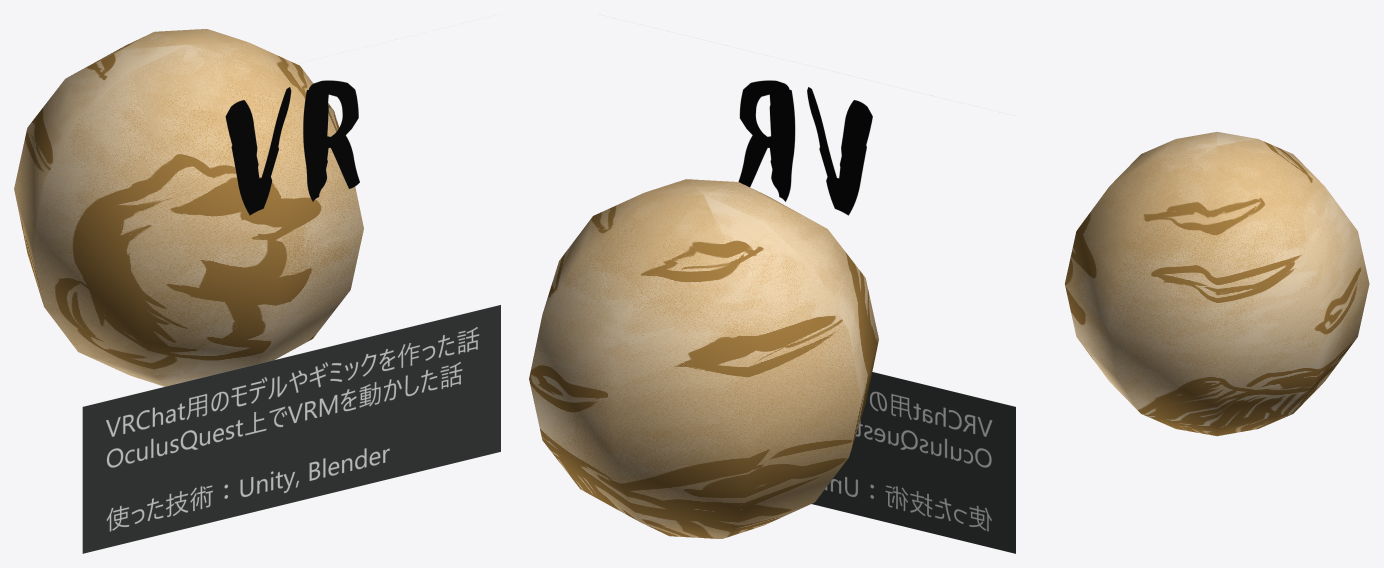
Rendered from vrplanet.glb.
3 renders of one model, left to right at view 1: azimuth 30°, elevation 25°; view 2: azimuth 150°, elevation 25°; view 3: azimuth 270°, elevation 25°, orthographic. The views are drawn at different scales.
Visible parts, largest first — view 1: VRSphere, VRPlane; view 2: VRSphere, VRPlane; view 3: VRSphere.
Boxes of the visible parts, bbox=[...] form: VRSphere: bbox=[14, 29, 363, 386]; VRPlane: bbox=[82, 80, 500, 553]; VRSphere: bbox=[529, 179, 878, 538]; VRPlane: bbox=[738, 80, 1015, 553]; VRSphere: bbox=[1065, 131, 1369, 436].
Bounding box in the file's own units: 4 × 4 × 3.2.
Materials: 2 (2 with a texture image).
